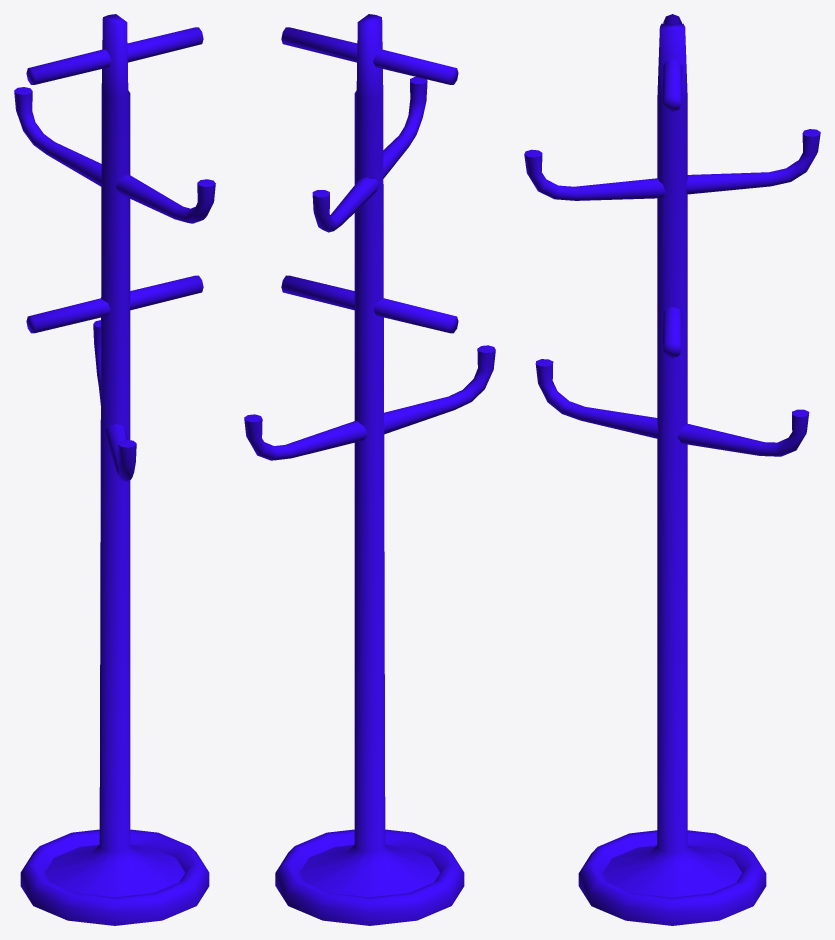
Rendered from office_pack_clothesStand_1_meshCollider.fbx.
3 renders of one model, left to right at view 1: azimuth 30°, elevation 25°; view 2: azimuth 150°, elevation 25°; view 3: azimuth 270°, elevation 25°, orthographic.
Visible parts, largest first — view 1: office_pack_clothesStand_1_meshCollider; view 2: office_pack_clothesStand_1_meshCollider; view 3: office_pack_clothesStand_1_meshCollider.
Part boxes in pixels (bbox=[...]): office_pack_clothesStand_1_meshCollider: bbox=[14, 14, 215, 925]; office_pack_clothesStand_1_meshCollider: bbox=[244, 14, 495, 925]; office_pack_clothesStand_1_meshCollider: bbox=[524, 14, 820, 925].
Bounding box in the file's own units: 23.77 × 116 × 36.2.
